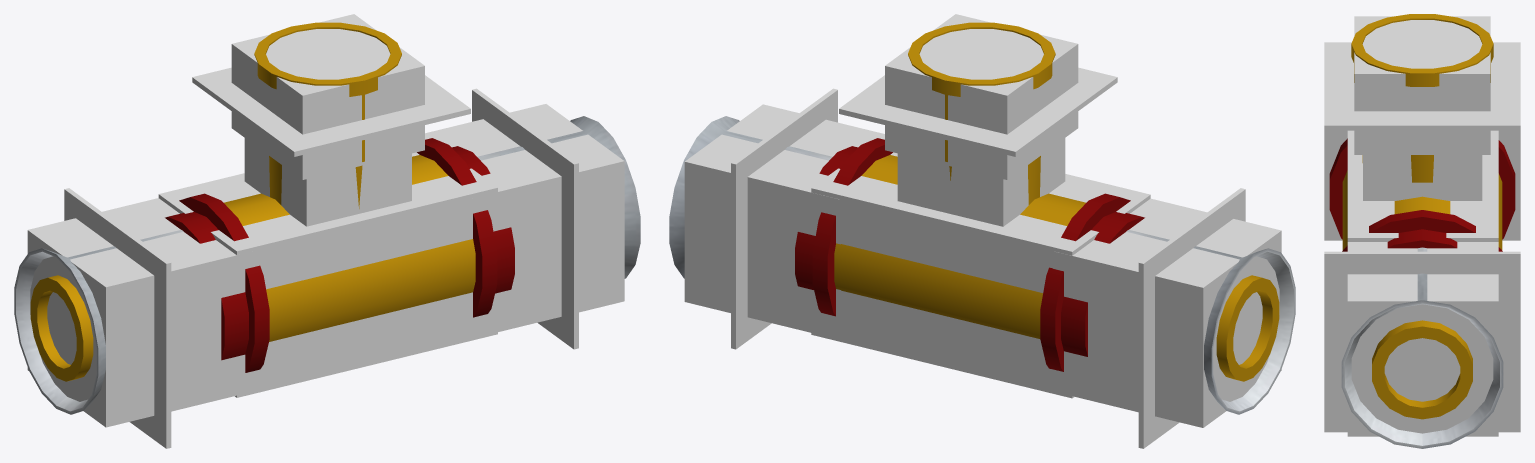
3 views of the same model, side by side, from view 1: azimuth 30°, elevation 25°; view 2: azimuth 150°, elevation 25°; view 3: azimuth 270°, elevation 25° (orthographic). The views are drawn at different scales.
Parts seen in each view (by area): view 1: tronik_26х1/2(vn)х26_COL_, tronik_26х1/2х26_vn_, Box001_est_018, Box001_est_017, Box001_est_016; view 2: tronik_26х1/2(vn)х26_COL_, tronik_26х1/2х26_vn_, Box001_est_018, Box001_est_017, Box001_est_016; view 3: tronik_26х1/2(vn)х26_COL_, tronik_26х1/2х26_vn_, Box001_est_016, Box001_est_018, Box001_est_017.
Part boxes in pixels (x1,y1,x2,y2): tronik_26х1/2(vn)х26_COL_: (27, 14, 624, 427); tronik_26х1/2х26_vn_: (14, 22, 640, 414); Box001_est_018: (192, 67, 470, 156); Box001_est_017: (64, 188, 171, 448); Box001_est_016: (472, 88, 578, 349); tronik_26х1/2(vn)х26_COL_: (684, 14, 1281, 427); tronik_26х1/2х26_vn_: (669, 22, 1295, 414); Box001_est_018: (839, 67, 1117, 156); Box001_est_017: (1138, 188, 1245, 448); Box001_est_016: (731, 88, 837, 349); tronik_26х1/2(vn)х26_COL_: (1347, 16, 1498, 436); tronik_26х1/2х26_vn_: (1329, 14, 1515, 448); Box001_est_016: (1324, 251, 1520, 432); Box001_est_018: (1324, 42, 1520, 130); Box001_est_017: (1324, 130, 1520, 240).
Bounding box in the file's own units: 0.1104 × 0.0596 × 0.036.
Materials: 3 (1 with a texture image).
